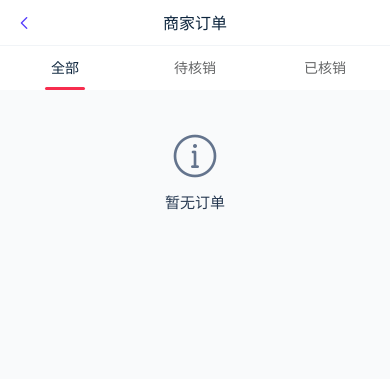
Scenario: Merchant/OrderList.vue — 核销成功后的刷新 › 「待核销」Tab 核销成功后该订单从列表消失（EmptyState）
Click the tab "待核销".
click(195, 68)  # box [174, 59, 216, 76]
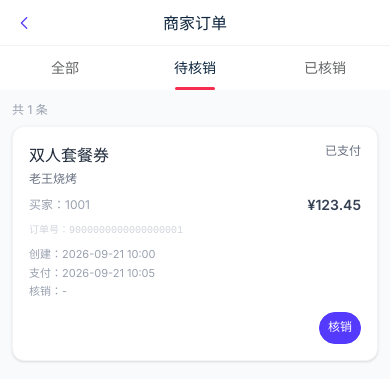
Expected: the number of elements with test id "merchant-order-card" is 1, [12, 126, 378, 360]
Click the button with test id "redeem-button".
click(340, 328)  # box [319, 312, 361, 344]
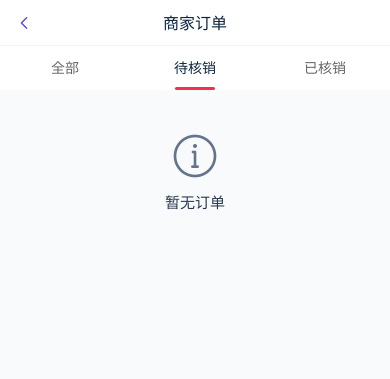
Expected: no elements with test id "merchant-order-card" are shown
Expected: the text "暂无订单" is shown, [165, 193, 225, 212]
